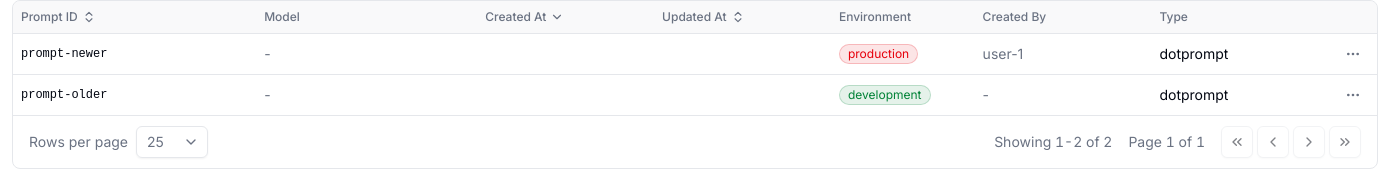
Test: PromptTable › should hide the delete action for non-admins but keep copy available
This screenshot has width=1378, height=186.
Click the button with test id "prompt-actions-prompt-newer": (1353, 54) [1337,38,1369,70]
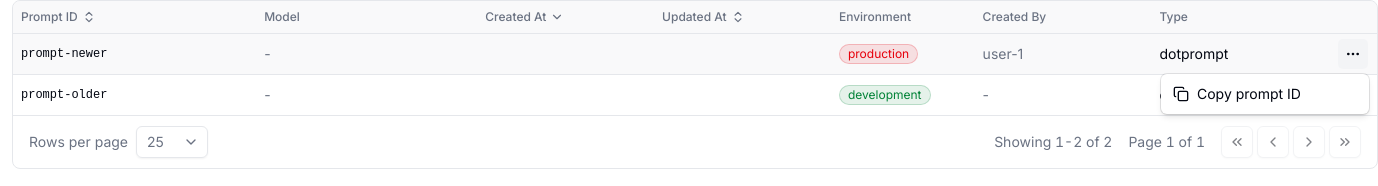
Expected: the menu item with test id "prompt-action-copy" is shown, [1173,85,1301,102]
